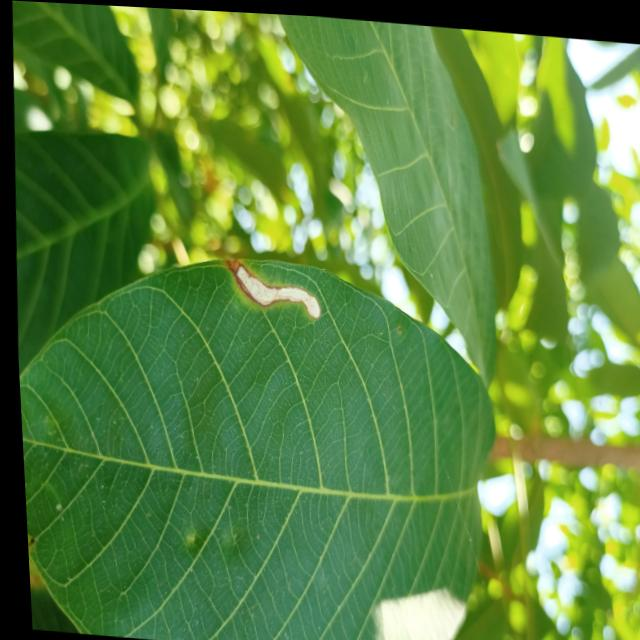Leaf-Blight: (230, 263, 318, 315)
